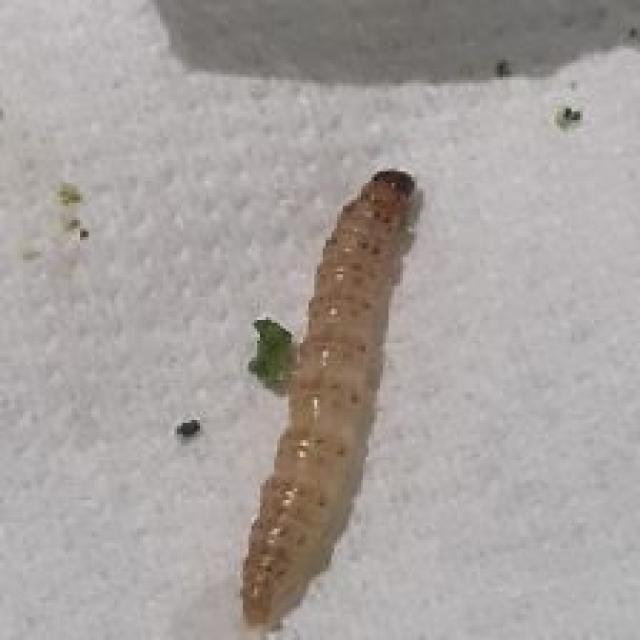white mucus: (221, 120, 462, 628)
